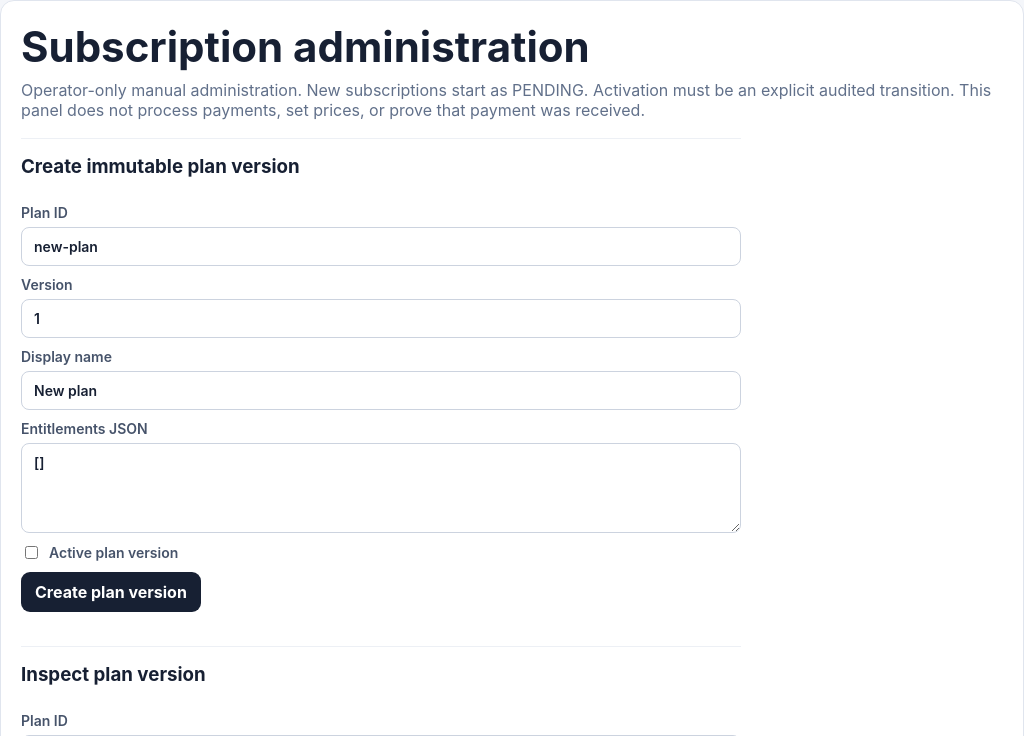
SubscriptionAdminPanel › creates an immutable plan version from validated entitlement JSON
The width and height of the screenshot is (1024, 736).
Click the button "Create plan version".
click(111, 592)  # box [21,572,201,612]
(page scrolled)
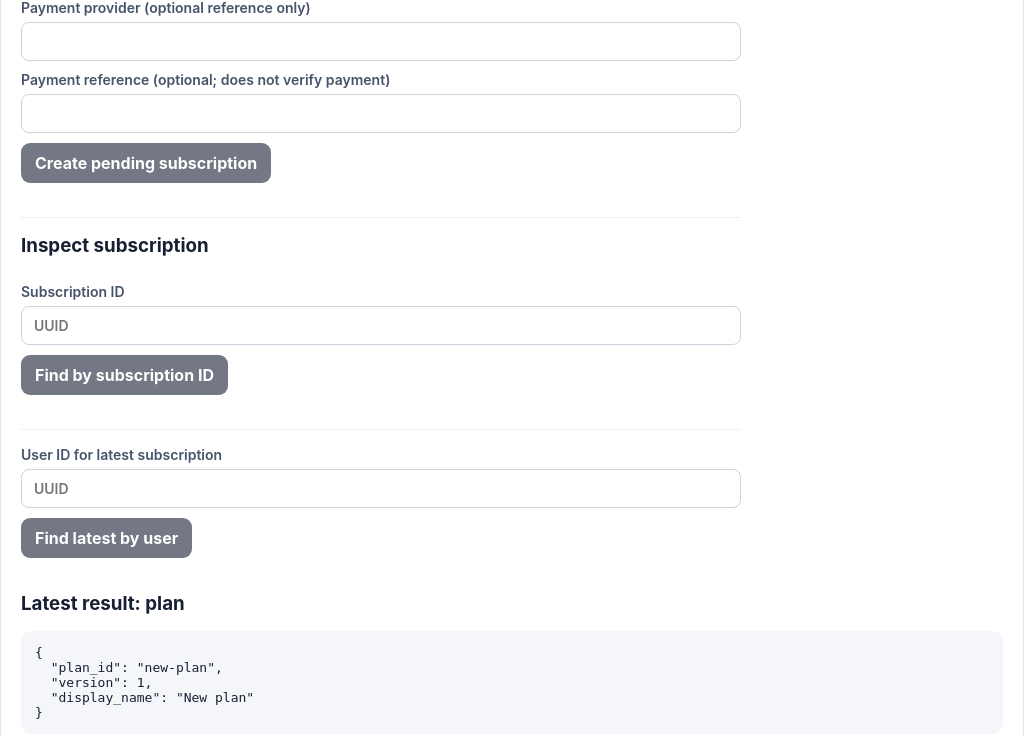
Now the heading "Latest result: plan" is shown, box [21,592,185,615]
